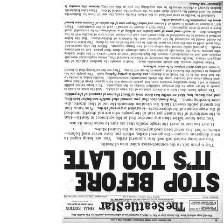news_paper: (61, 0, 224, 224)
